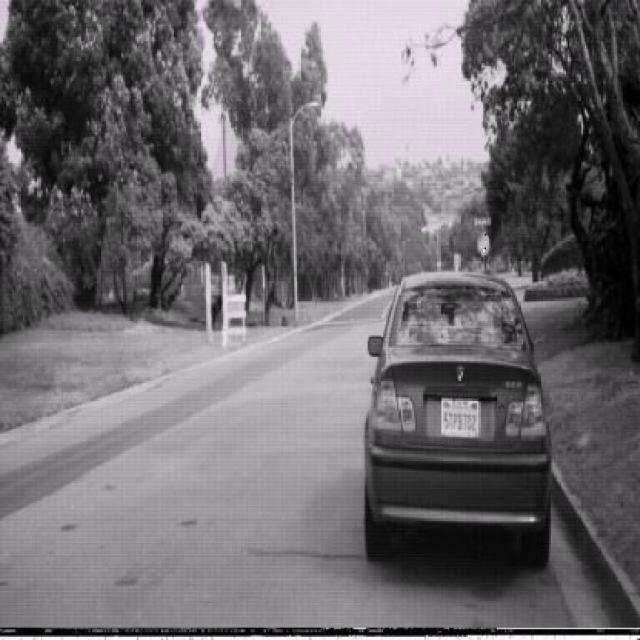stop: (476, 230, 490, 258)
